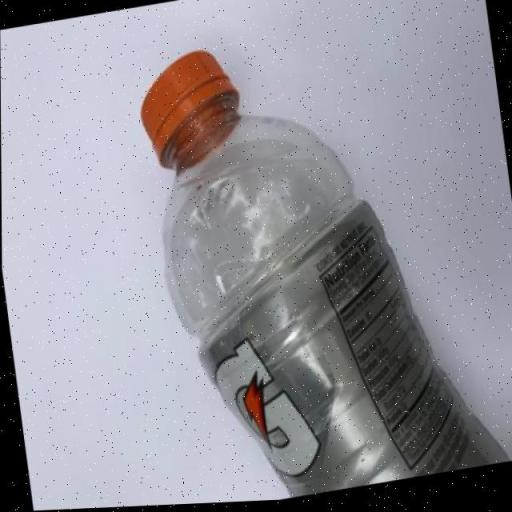plastic: (130, 7, 508, 507)
